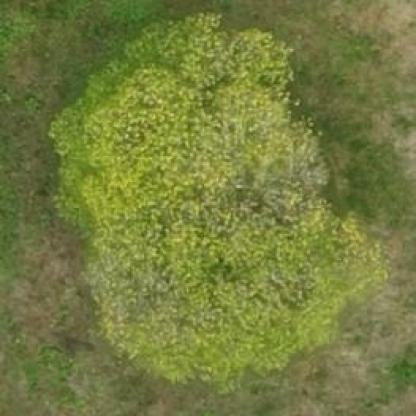Deciduous Tree: (31, 20, 399, 391)
